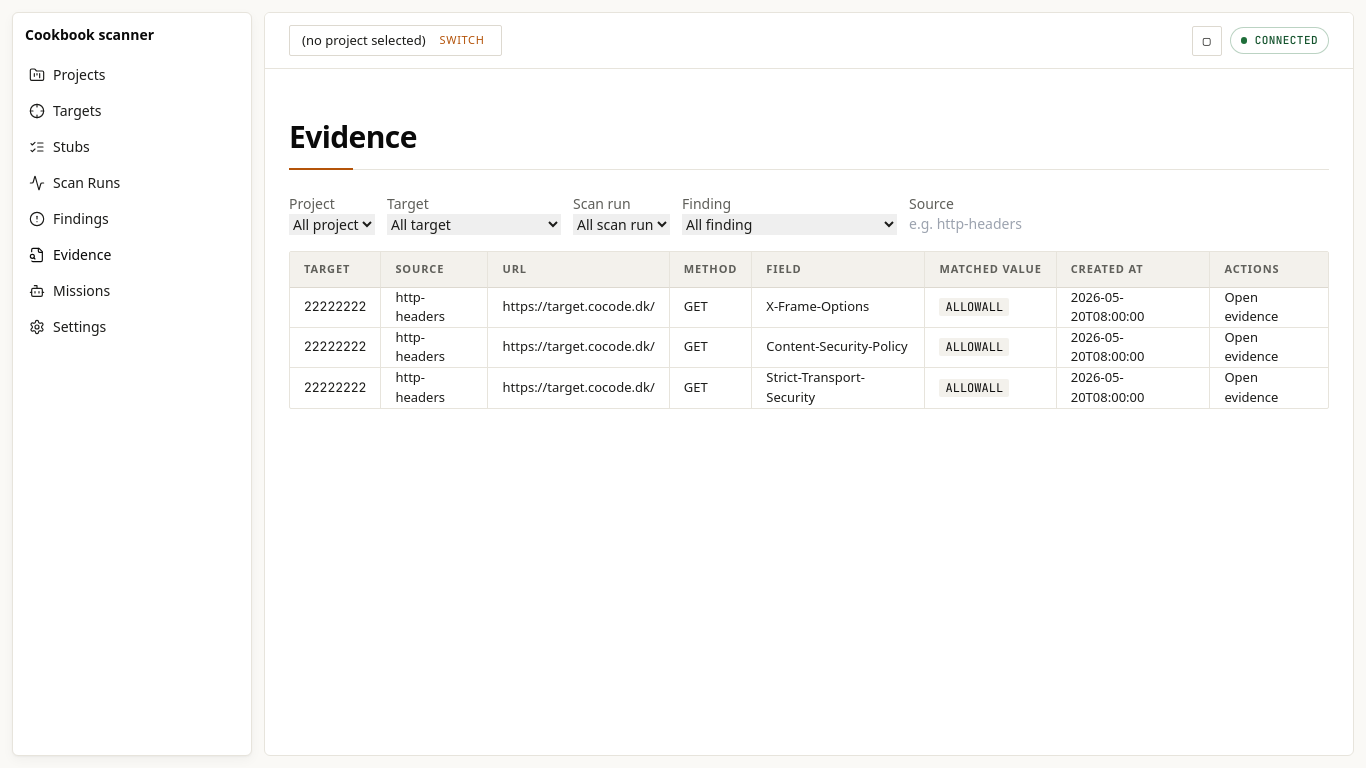
end-to-end · evidence › lists evidence, filters by project, then drills into detail
Expected: the row with test id "evidence-row-ev-1" is shown, [290,288,1328,328]
Expected: the row with test id "evidence-row-ev-2" is shown, [290,328,1328,368]
Select "Local Lab" in the dropdown labelled "Project" at point(332, 224), box [289,214,375,234]
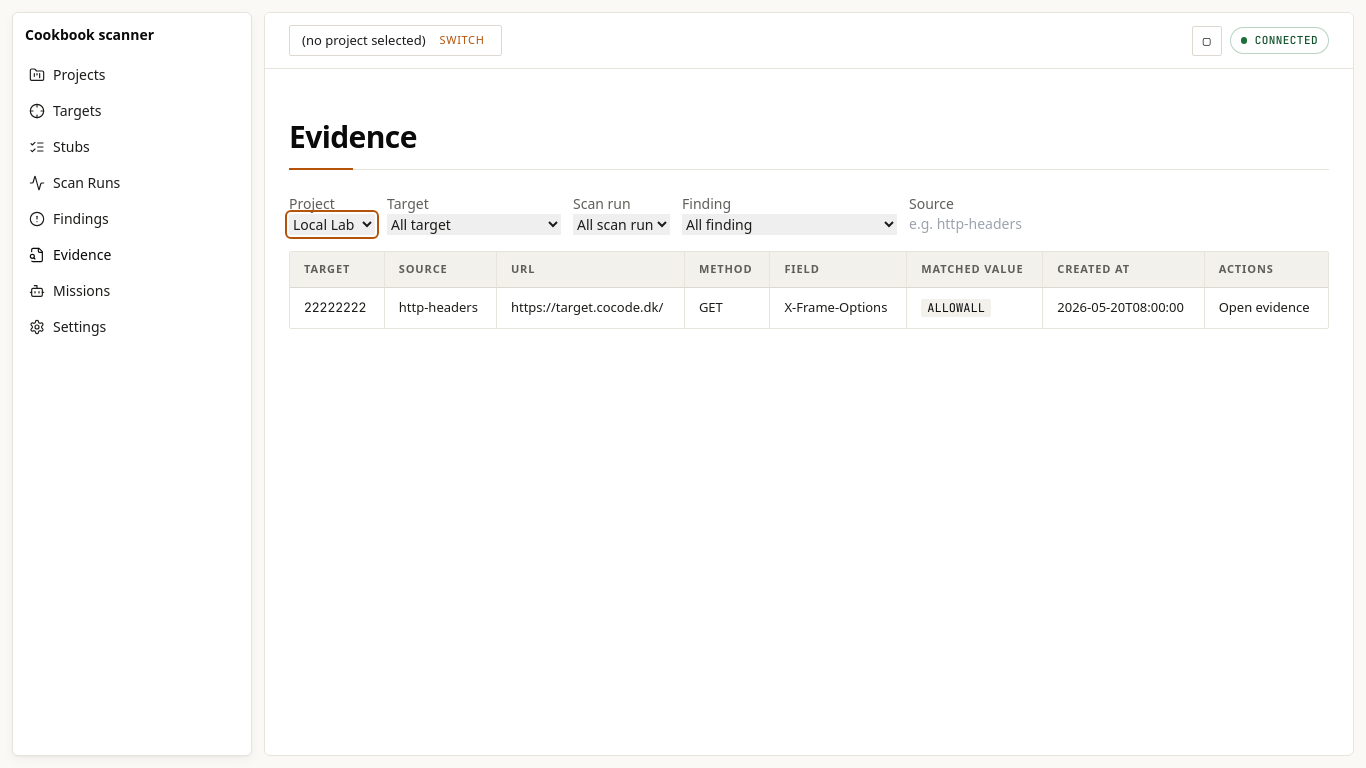
Expected: the row with test id "evidence-row-ev-1" is shown, [290,288,1328,328]
Now the row with test id "evidence-row-ev-2" is gone
Now the row with test id "evidence-row-ev-3" is gone
Click the link to "/evidence/ev-1" at point(1264, 308), box [1219,298,1310,317]
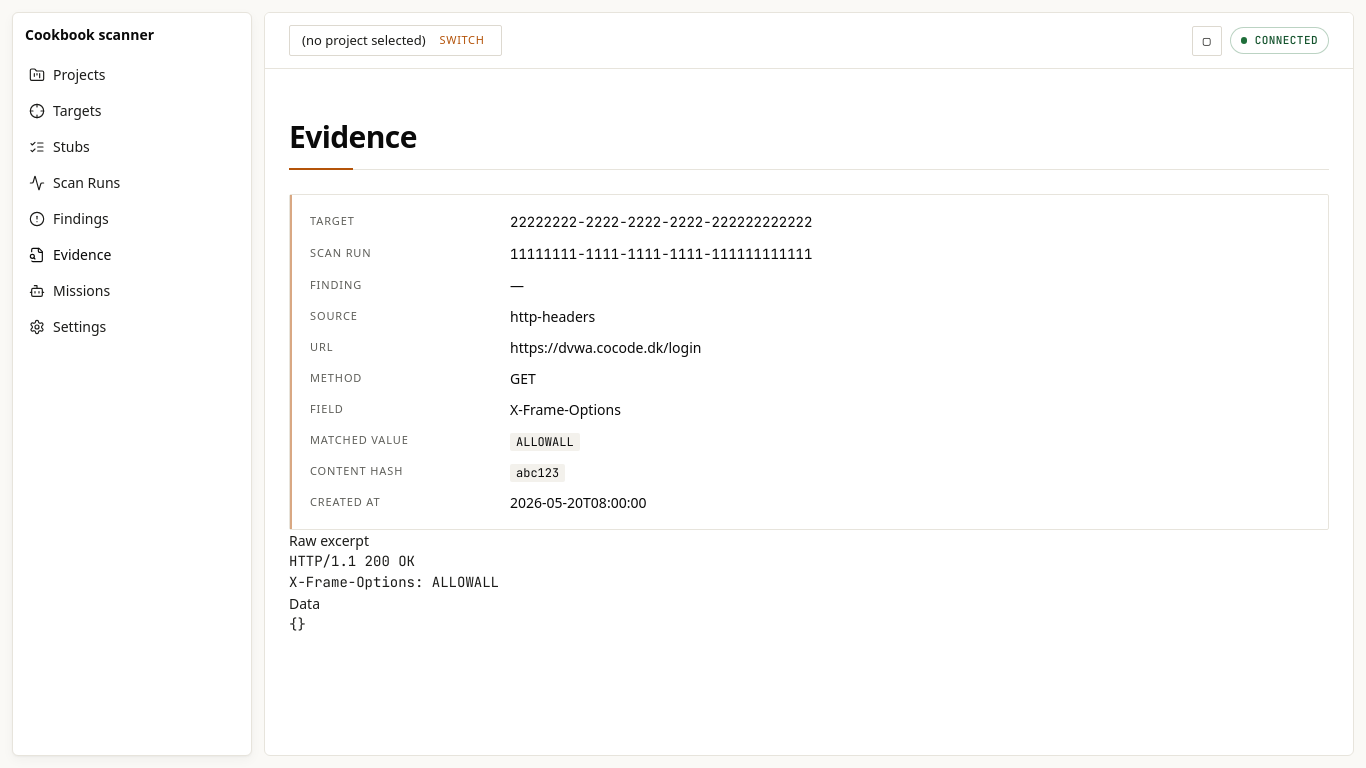
Now the text "https://dvwa.cocode.dk/login" is shown, box [510,338,702,356]
Now the text "X-Frame-Options" is shown, box [510,400,621,418]
Now the text with test id "evidence-raw-excerpt" shows "X-Frame-Options: ALLOWALL", box [289,552,499,590]
